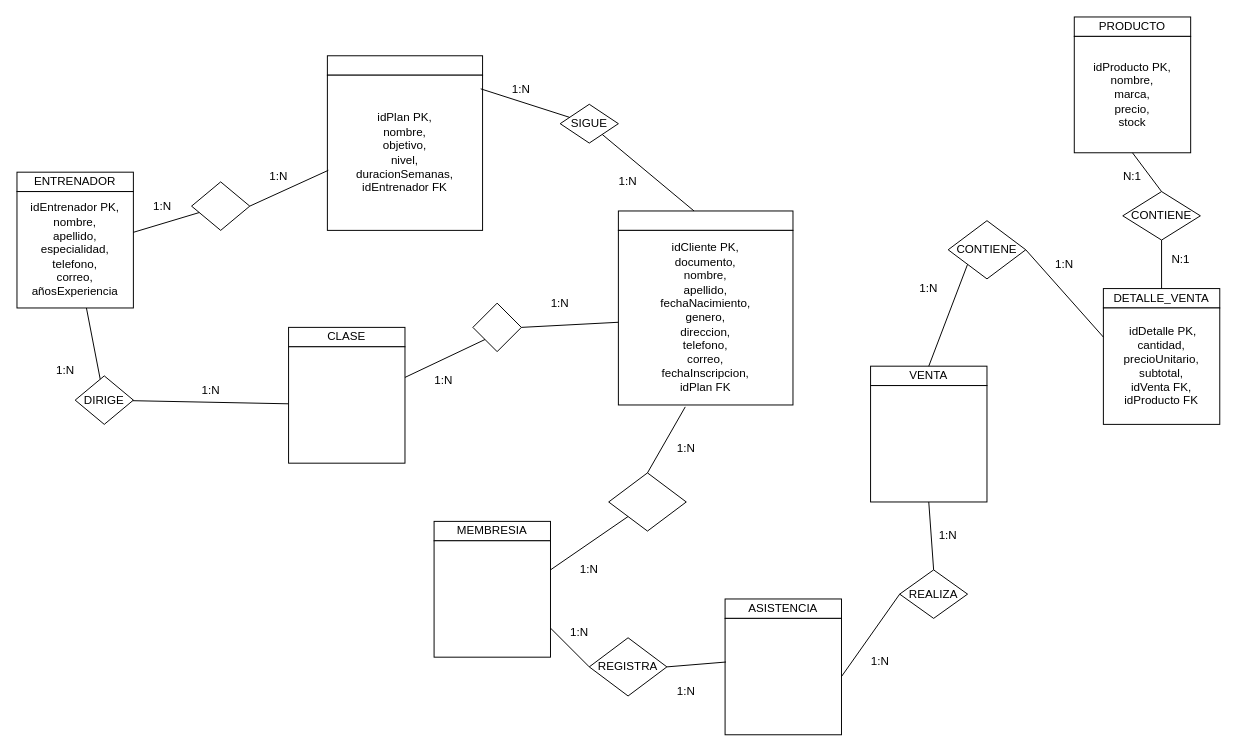
Some shapes in this 1237 by 752 pixel diagram are drawn without their labels. Each missing label, with the centre of its shape:
ADQUIERE: point 647,501
CLIENTE: point 705,220
DISEÑA: point 220,205
idAsistencia PK, fecha, horaIngreso, estado, idCliente FK, idClase FK: point 782,676
idClase PK, nombre, cupoMaximo, duracion, horaInicio, horaFin, idEntrenador FK: point 346,404
idMembresia PK, tipo, fechaInicio, fechaVencimiento, estado, valor, idCliente FK: point 491,598
idVenta PK, fecha, total, idAsistencia FK: point 928,443
PLAN_ENTRENAMIENTO: point 404,65
TIENE: point 496,327
